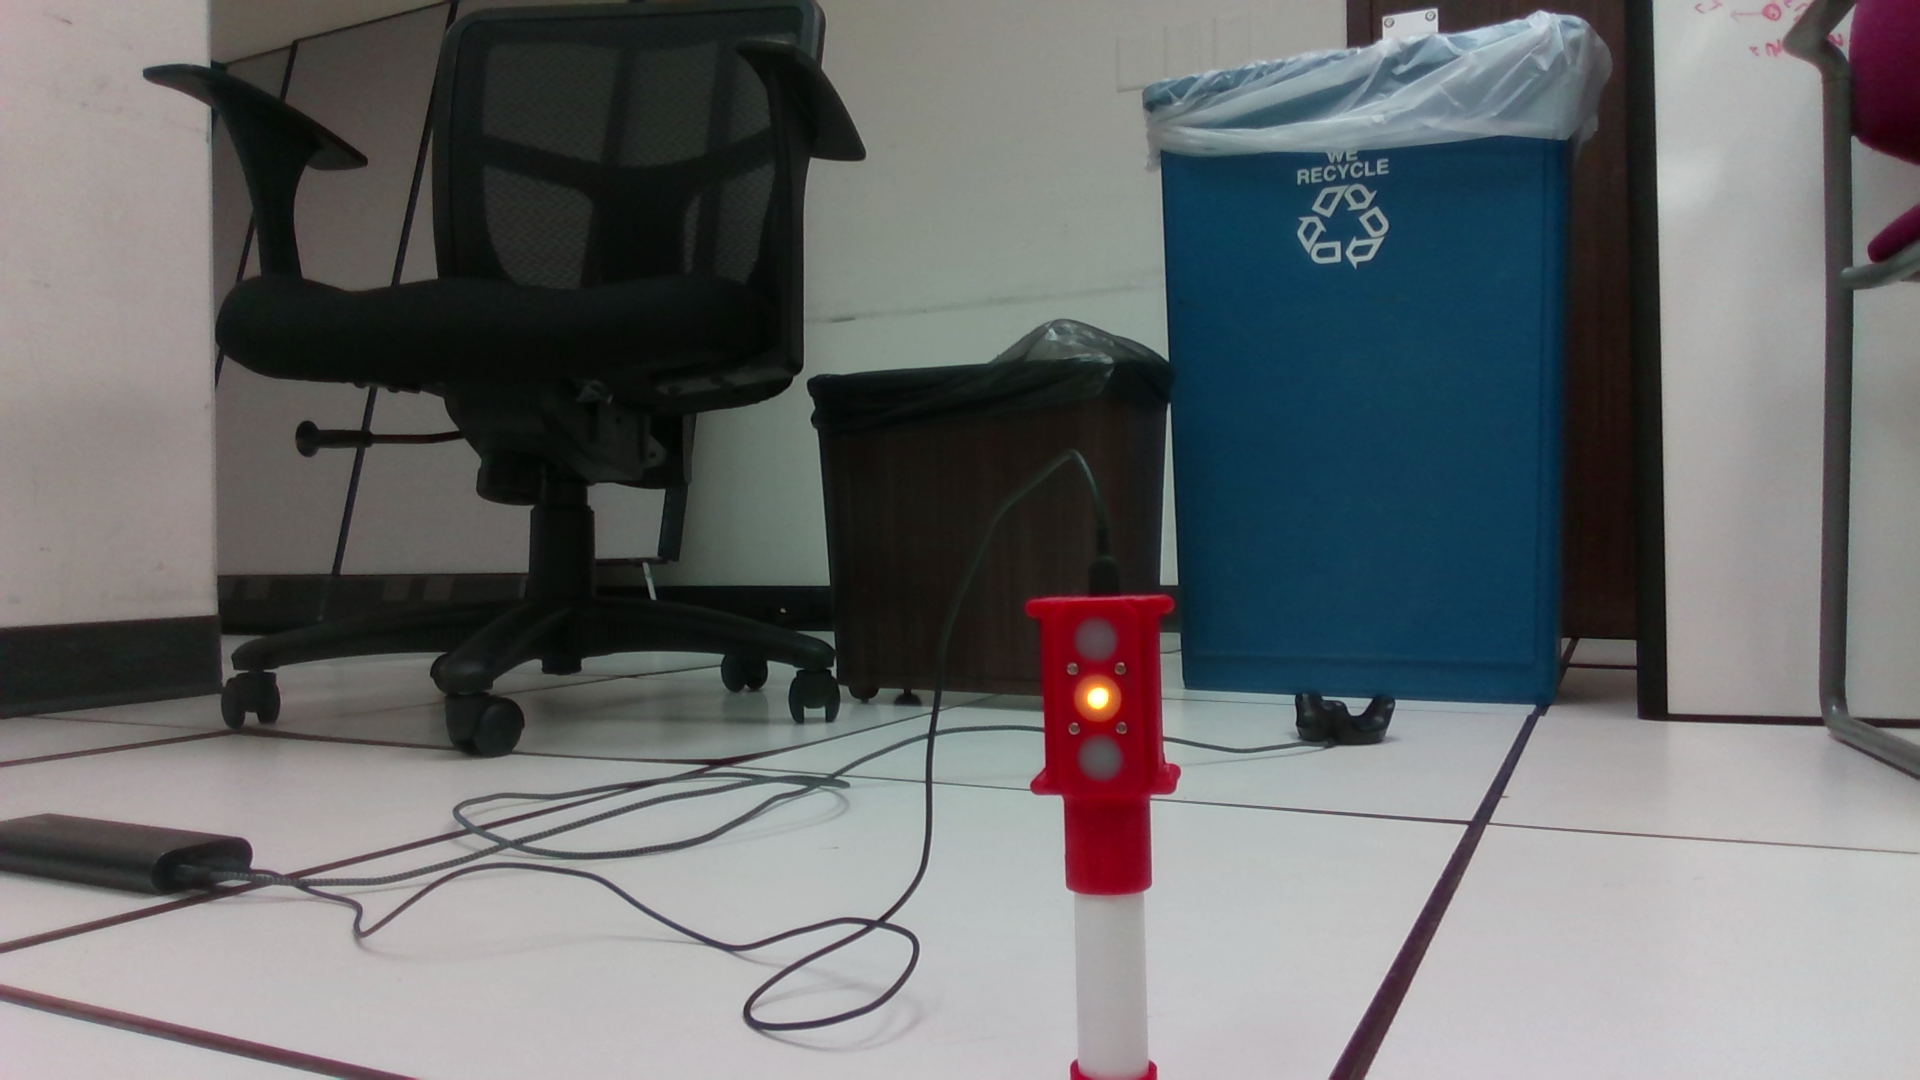stoplight: (1021, 591, 1179, 891)
